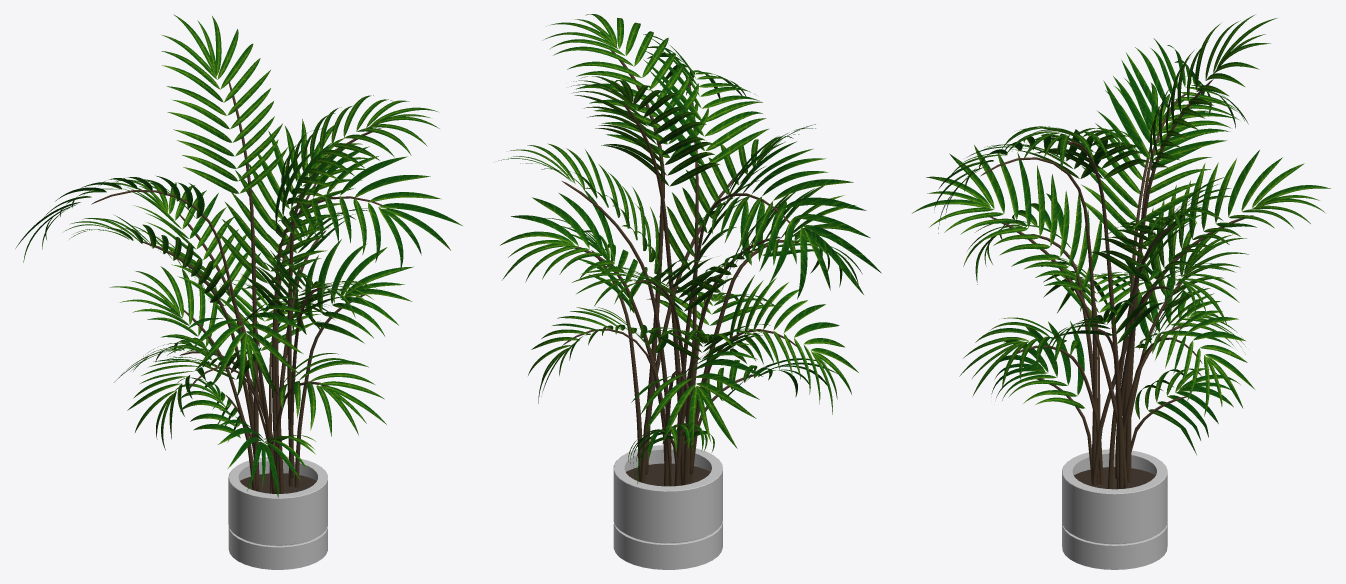
File: plant_palm.obj
3 views of the same model, side by side, from view 1: azimuth 30°, elevation 25°; view 2: azimuth 150°, elevation 25°; view 3: azimuth 270°, elevation 25° (orthographic). The views are drawn at different scales.
Parts seen in each view (by area): view 1: leaves, stem, pot, soil; view 2: leaves, stem, pot, soil; view 3: leaves, stem, pot, soil.
Boxes of the visible parts, <box> form: leaves: <box>15,14,462,497</box>; stem: <box>91,82,388,493</box>; pot: <box>228,456,327,569</box>; soil: <box>240,473,316,493</box>; leaves: <box>498,14,881,484</box>; stem: <box>562,50,798,486</box>; pot: <box>613,445,722,569</box>; soil: <box>626,463,710,486</box>; leaves: <box>912,14,1330,454</box>; stem: <box>980,79,1253,489</box>; pot: <box>1062,449,1167,569</box>; soil: <box>1074,467,1155,489</box>.
Bounding box in the file's own units: 1.39 × 1.76 × 1.3.
